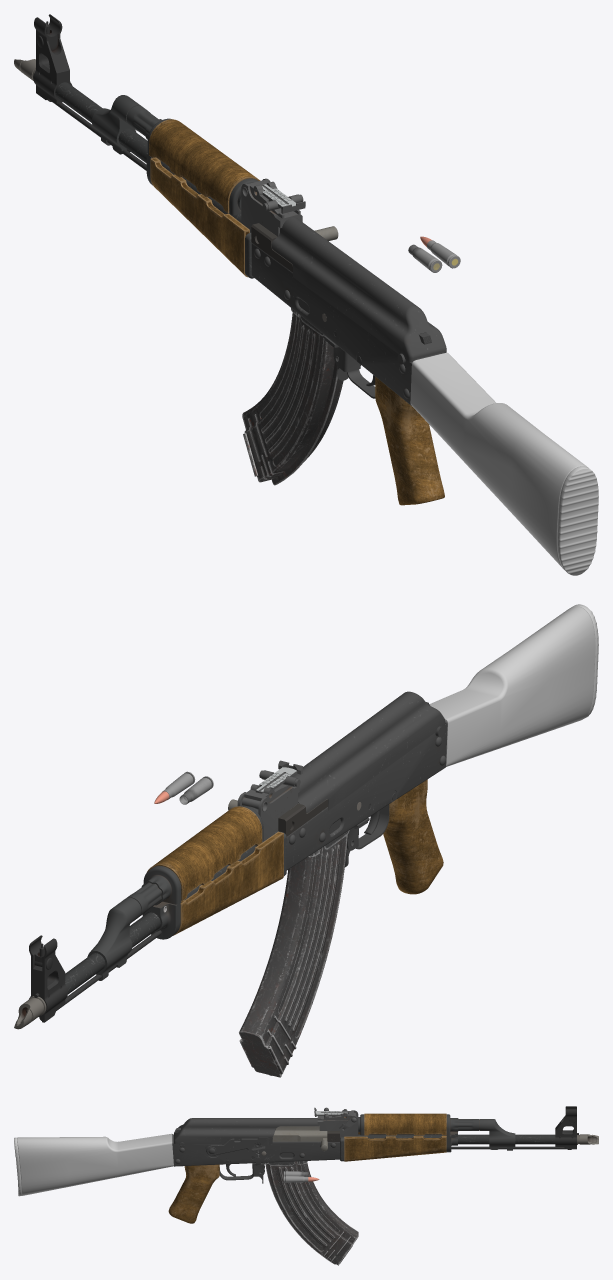
3 renders of one model, top to bottom at view 1: azimuth 30°, elevation 25°; view 2: azimuth 150°, elevation 25°; view 3: azimuth 270°, elevation 25°, orthographic. The views are drawn at different scales.
Visible parts, largest first — view 1: stock_low, reciever_low, magazine, handgrip_low, Barrel g3_low, upper handgaurd_low, lower handgaurd_low, handgaurd retainer g3_low, rear sight block_low; view 2: reciever_low, stock_low, magazine, Barrel g3_low, upper handgaurd_low, handgaurd retainer g3_low, handgrip_low, lower handgaurd_low, rear sight block_low; view 3: stock_low, reciever_low, magazine, Barrel g3_low, lower handgaurd_low, upper handgaurd_low, handgrip_low, handgaurd retainer g3_low, rear sight block_low, bolt carrier, reciever_low.002.
Part boxes in pixels (x1,y1,x2,y2): stock_low: (410,352,598,575); reciever_low: (251,217,446,405); magazine: (242,308,343,485); handgrip_low: (375,377,444,505); Barrel g3_low: (14,14,241,222); upper handgaurd_low: (149,119,260,213); lower handgaurd_low: (150,157,253,278); handgaurd retainer g3_low: (91,95,258,215); rear sight block_low: (241,178,305,236); reciever_low: (278,691,447,870); stock_low: (429,604,598,766); magazine: (239,830,349,1077); Barrel g3_low: (14,845,256,1029); upper handgaurd_low: (147,806,262,900); handgaurd retainer g3_low: (87,805,263,980); handgrip_low: (383,779,443,894); lower handgaurd_low: (173,831,286,935); rear sight block_low: (237,760,302,846); stock_low: (14,1133,173,1196); reciever_low: (172,1118,339,1180); magazine: (265,1161,358,1265); Barrel g3_low: (358,1106,598,1149); lower handgaurd_low: (340,1132,446,1161); upper handgaurd_low: (364,1113,446,1135); handgrip_low: (168,1164,219,1223); handgaurd retainer g3_low: (357,1114,515,1152); rear sight block_low: (314,1107,358,1137); bolt carrier: (272,1126,327,1151); reciever_low.002: (205,1137,272,1156).
Bounding box in the file's own units: 0.1477 × 0.2677 × 0.9077.
